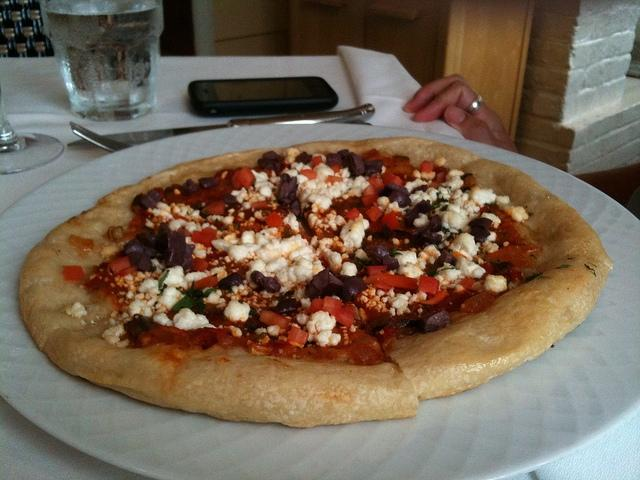tomato: (322, 296, 360, 328), (364, 270, 418, 290), (486, 245, 532, 268), (165, 188, 221, 206), (347, 337, 384, 364), (382, 210, 415, 233), (258, 309, 290, 331), (286, 326, 309, 350), (191, 228, 217, 248), (418, 274, 440, 297), (68, 233, 95, 251), (237, 166, 255, 191), (108, 256, 132, 274), (156, 322, 186, 336), (419, 290, 449, 304), (60, 265, 86, 281), (362, 184, 379, 208), (194, 273, 218, 290), (264, 211, 284, 228), (201, 201, 225, 215), (366, 204, 384, 222), (382, 172, 403, 186), (191, 256, 209, 272), (216, 180, 233, 196), (368, 176, 386, 190), (128, 214, 146, 228), (365, 266, 387, 277), (309, 298, 323, 314), (419, 160, 434, 174), (300, 169, 318, 180), (344, 208, 359, 221), (119, 266, 138, 276), (324, 175, 343, 185), (460, 278, 475, 289), (312, 156, 322, 168), (330, 163, 340, 172), (208, 186, 215, 190)
